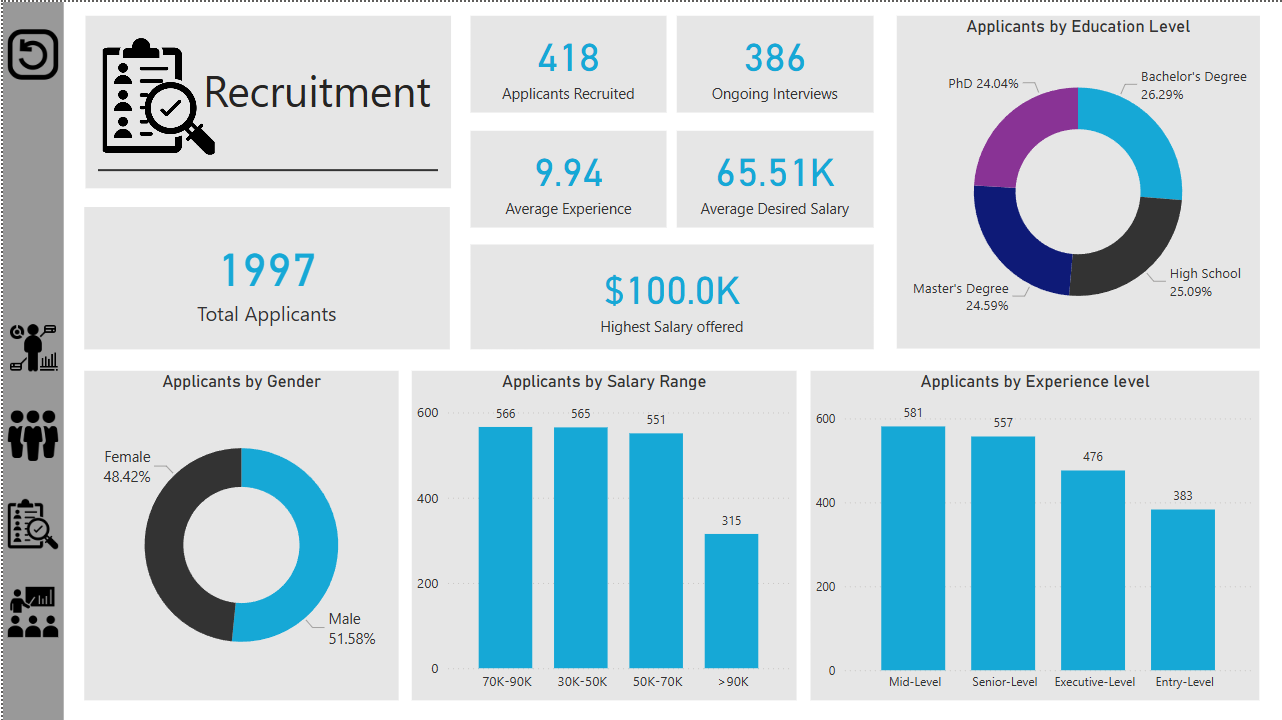

What the dashboard file says about the page in this screenshot:
{"tool":"powerbi","page":{"name":"Recruitment","canvas":[1280,720],"ordinal":2},"visuals":[{"type":"shape","box":[0,0,60.7,720.2],"z":0,"group":"g2"},{"type":"group","id":"g1","title":"Logo","box":[82,13.5,365.5,172.6],"z":0},{"type":"shape","box":[82,13.5,365.5,172.6],"z":0,"group":"g1"},{"type":"image","box":[94.7,31.3,121.8,126.4],"z":750,"group":"g1"},{"type":"clusteredColumnChart","title":"Applicants by Salary Range","fields":{"Y":["Measure Table.Total Applicants"],"Category":["recruitment_data.salary range"]},"box":[408.9,368.7,384.8,329.7],"z":1000},{"type":"image","box":[0,491.4,59.9,61.1],"z":1000,"group":"g2"},{"type":"shape","box":[94.8,161.1,340,13.8],"z":1500,"group":"g1"},{"type":"donutChart","title":"Applicants by Education Level","fields":{"Y":["Measure Table.Total Applicants"],"Category":["recruitment_data.Education Level"]},"box":[893.7,13.8,363,333.1],"z":2000},{"type":"textbox","box":[194.6,53.2,251.6,82.7],"z":2000,"group":"g1"},{"type":"image","box":[0,580.1,59.9,59.9],"z":2000,"group":"g2"},{"type":"image","box":[0,315.2,59.9,61.1],"z":3000,"group":"g2"},{"type":"clusteredColumnChart","title":"Applicants by Experience level","fields":{"Category":["recruitment_data.Experience level"],"Y":["Measure Table.Total Applicants"]},"box":[807.5,368.7,449.1,329.7],"z":3000},{"type":"card","fields":{"Values":["Measure Table.Average Years Of Experience"]},"box":[467.5,128.7,196,96.5],"z":4000},{"type":"image","box":[0,403.9,59.9,59.9],"z":4000,"group":"g2"},{"type":"card","fields":{"Values":["measure.Total Applicants"]},"box":[81.6,204.5,365.3,142.4],"z":5000},{"type":"card","fields":{"Values":["measure.Applicants Recruited"]},"box":[467.5,13.8,196,96.5],"z":6000},{"type":"card","fields":{"Values":["measure.Average Desired Salary"]},"box":[674.3,128.7,196.4,96.5],"z":7000},{"type":"card","fields":{"Values":["measure.Ongoing Interviews"]},"box":[674.3,13.8,196.4,96.5],"z":8000},{"type":"card","fields":{"Values":["measure.Highest Salary offered"]},"box":[467.5,242.4,403.2,105],"z":9000},{"type":"donutChart","title":"Applicants by Gender","fields":{"Y":["Measure Table.Total Applicants"],"Category":["recruitment_data.Gender"]},"box":[81.6,368.7,314.7,329.7],"z":10000},{"type":"group","id":"g2","title":"Nav Bar","box":[0,0,60.7,720.2],"z":11000},{"type":"image","box":[0,22.8,59.9,59.9],"z":12000}]}

Visuals, with their boxes on the page's 1280x720 design canvas (x1, y1, x2, y2). These are canvas units, not pixel positions in the 1282x720 screenshot, which may show the page scaled, cropped or inside an application window:
shape: Rect(0, 0, 61, 720)
"Logo" group: Rect(82, 14, 448, 186)
shape: Rect(82, 14, 448, 186)
image: Rect(95, 31, 216, 158)
"Applicants by Salary Range" clusteredColumnChart: Rect(409, 369, 794, 698)
image: Rect(0, 491, 60, 552)
shape: Rect(95, 161, 435, 175)
"Applicants by Education Level" donutChart: Rect(894, 14, 1257, 347)
textbox: Rect(195, 53, 446, 136)
image: Rect(0, 580, 60, 640)
image: Rect(0, 315, 60, 376)
"Applicants by Experience level" clusteredColumnChart: Rect(808, 369, 1257, 698)
card - Measure Table.Average Years Of Experience: Rect(468, 129, 664, 225)
image: Rect(0, 404, 60, 464)
card - measure.Total Applicants: Rect(82, 204, 447, 347)
card - measure.Applicants Recruited: Rect(468, 14, 664, 110)
card - measure.Average Desired Salary: Rect(674, 129, 871, 225)
card - measure.Ongoing Interviews: Rect(674, 14, 871, 110)
card - measure.Highest Salary offered: Rect(468, 242, 871, 347)
"Applicants by Gender" donutChart: Rect(82, 369, 396, 698)
"Nav Bar" group: Rect(0, 0, 61, 720)
image: Rect(0, 23, 60, 83)
